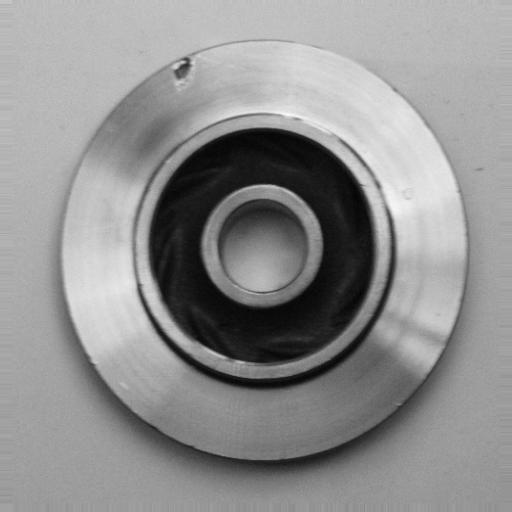crack: (165, 51, 200, 96)
unpolished_casting: (59, 39, 474, 467)
